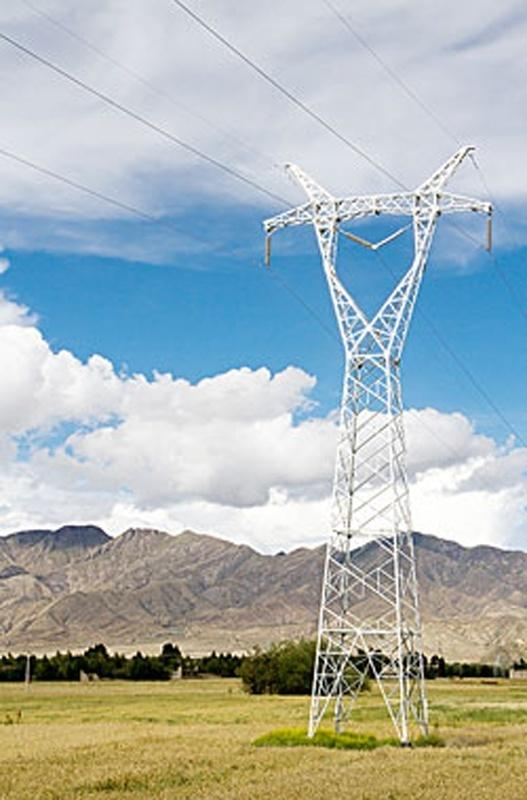power_tower: (254, 139, 482, 701)
